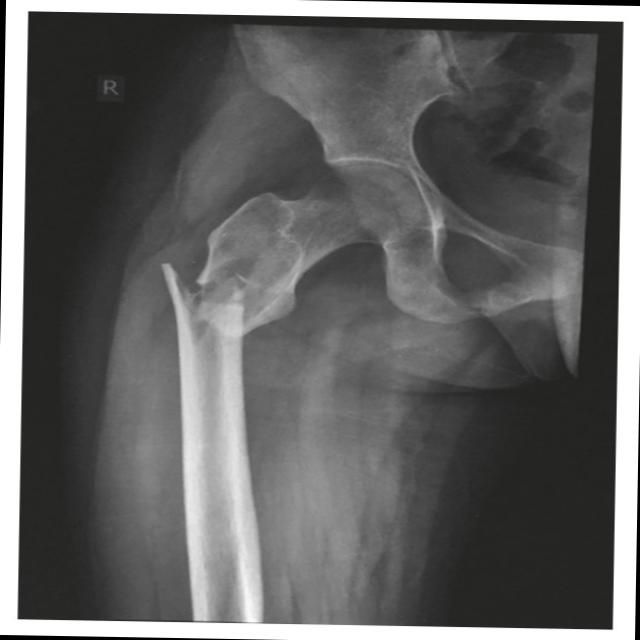right-subtrochanteric: (195, 165, 422, 337), (161, 262, 244, 383)
